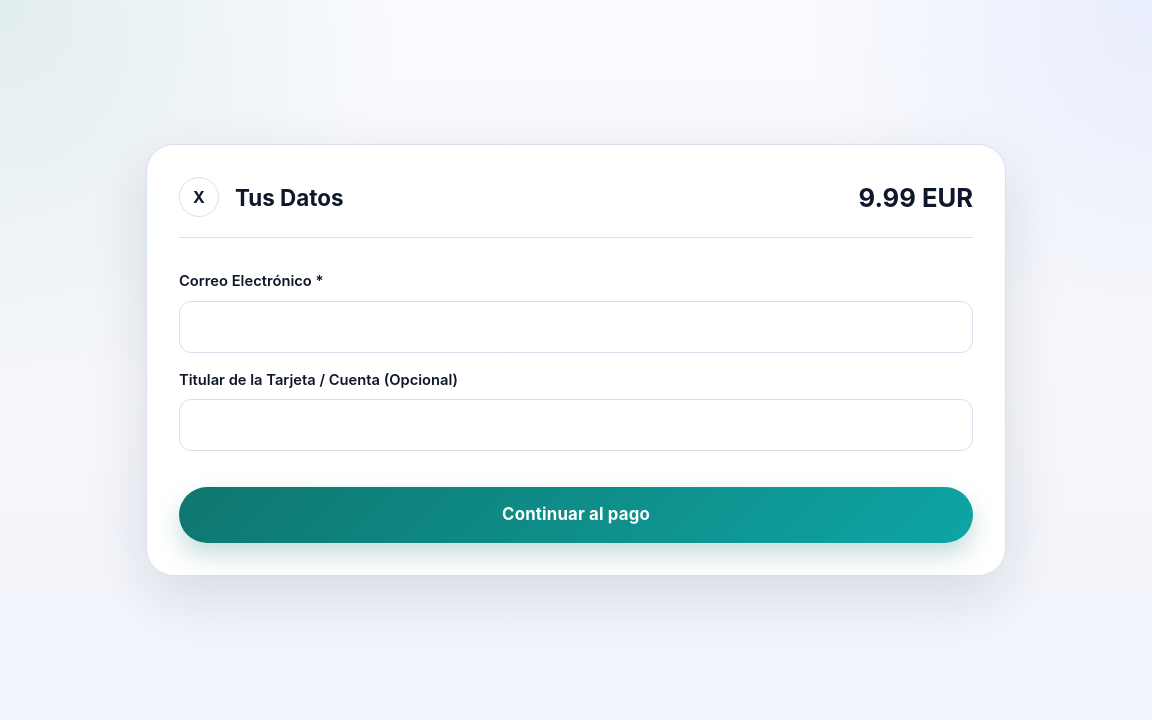
Test: SubscriptionForm › validates email before moving to payment step
The image size is (1152, 720).
Click the button "Continuar al pago": (576, 515) [179,487,973,543]
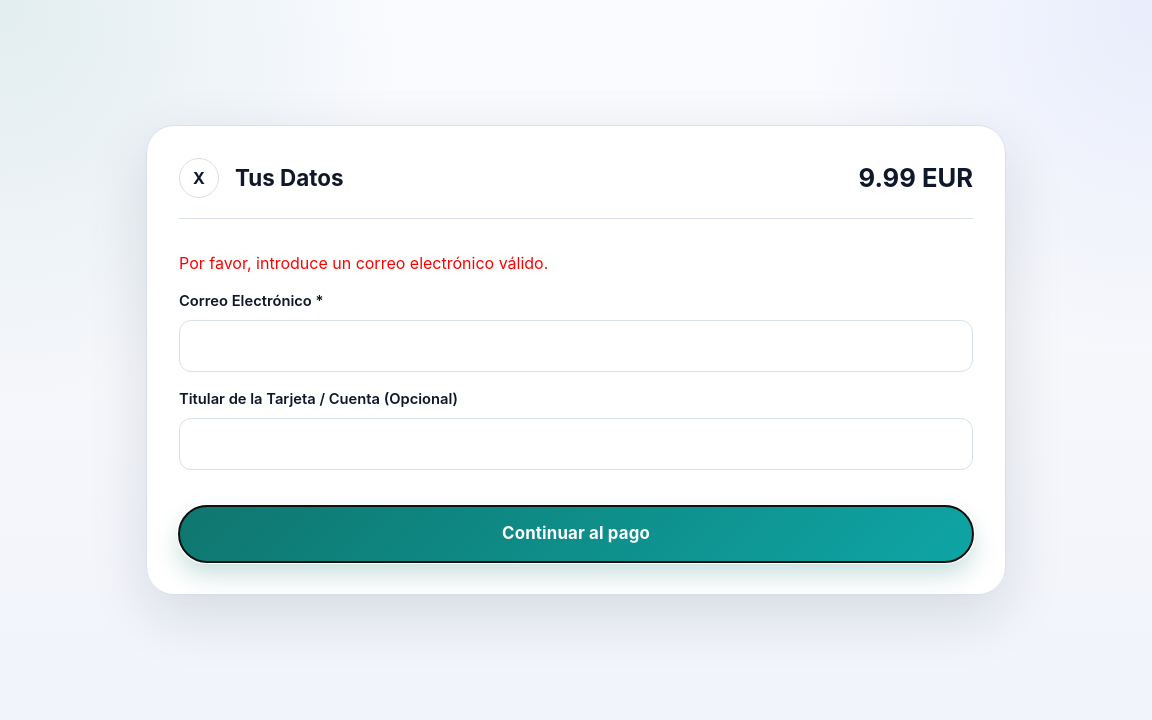
Expected: the heading "Tus Datos" is shown, [235,161,344,195]
Now the text "Por favor, introduce un correo electrónico válido." is shown, box [179,253,548,273]
